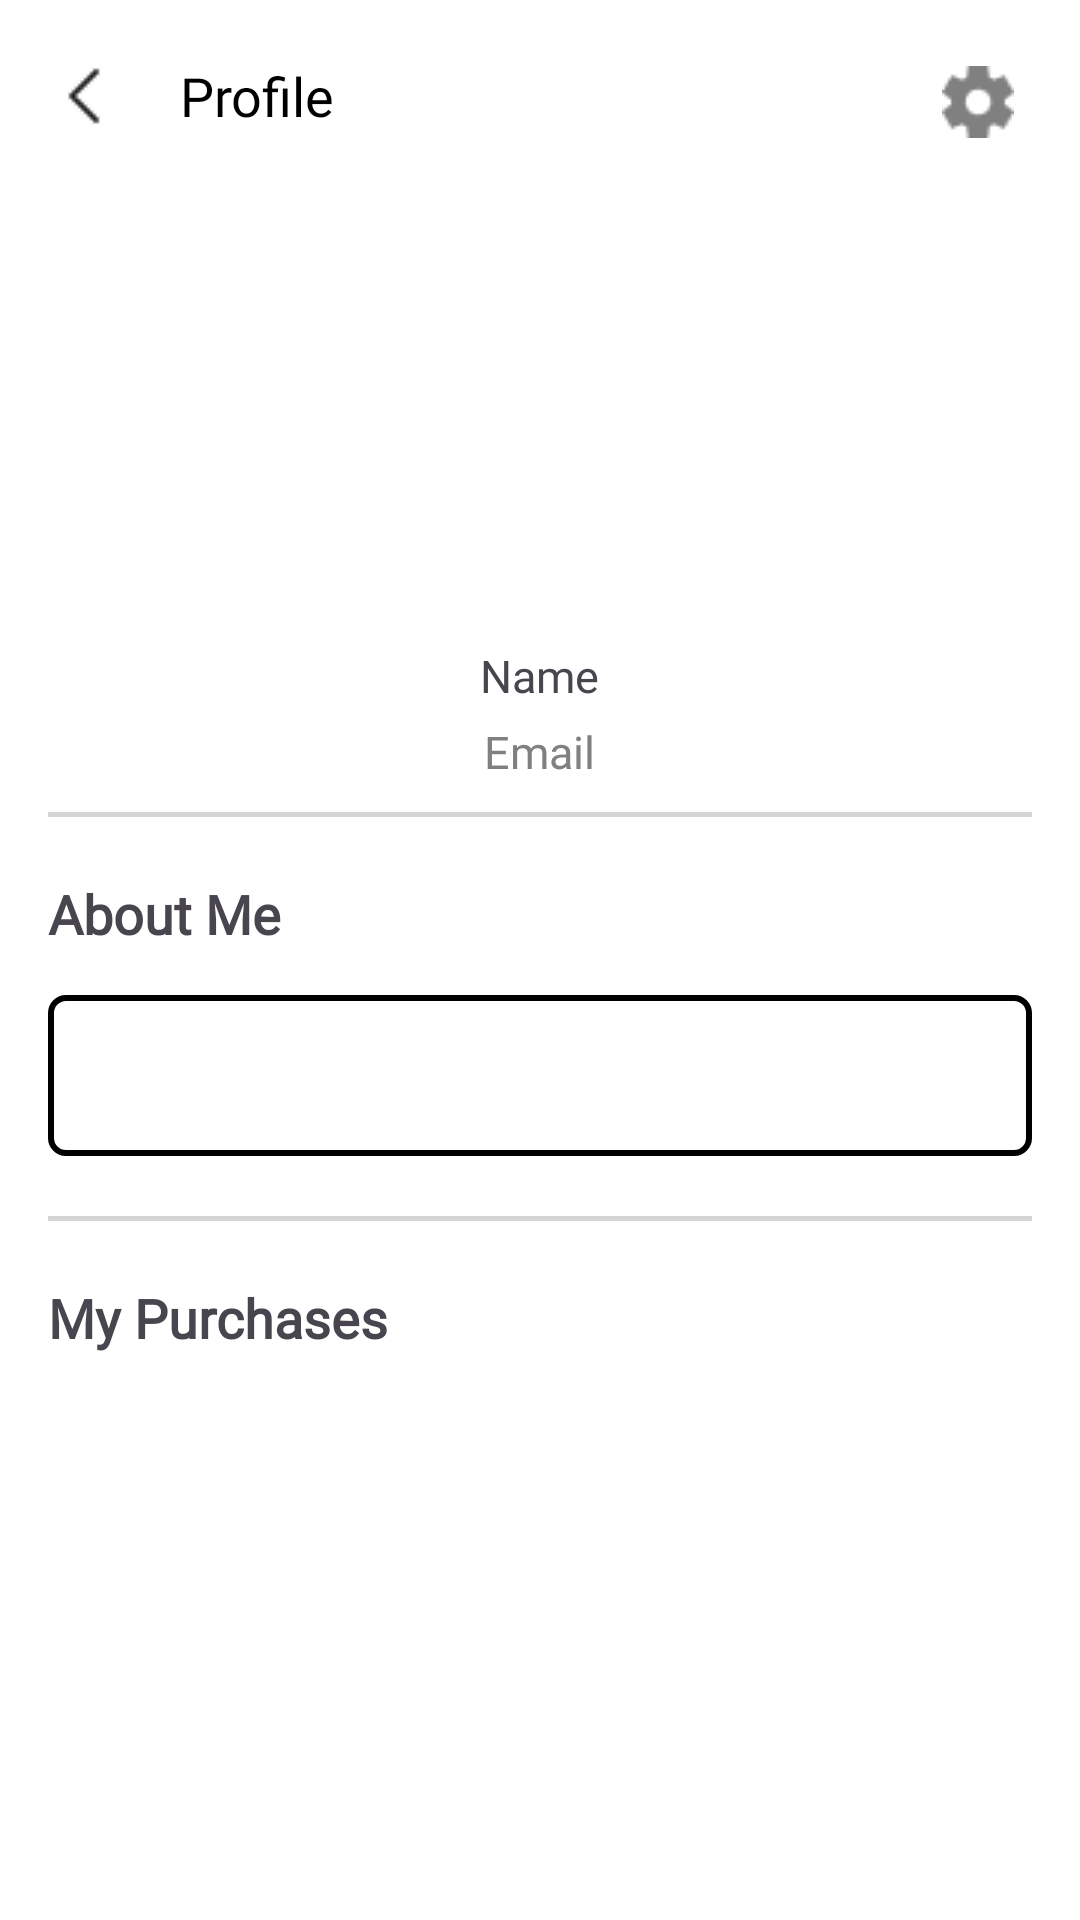

Icons on this 1080*1920 Android screen, each with its box as Rect(x1, y1, x2, y2):
Settings: Rect(942, 66, 1014, 138)
